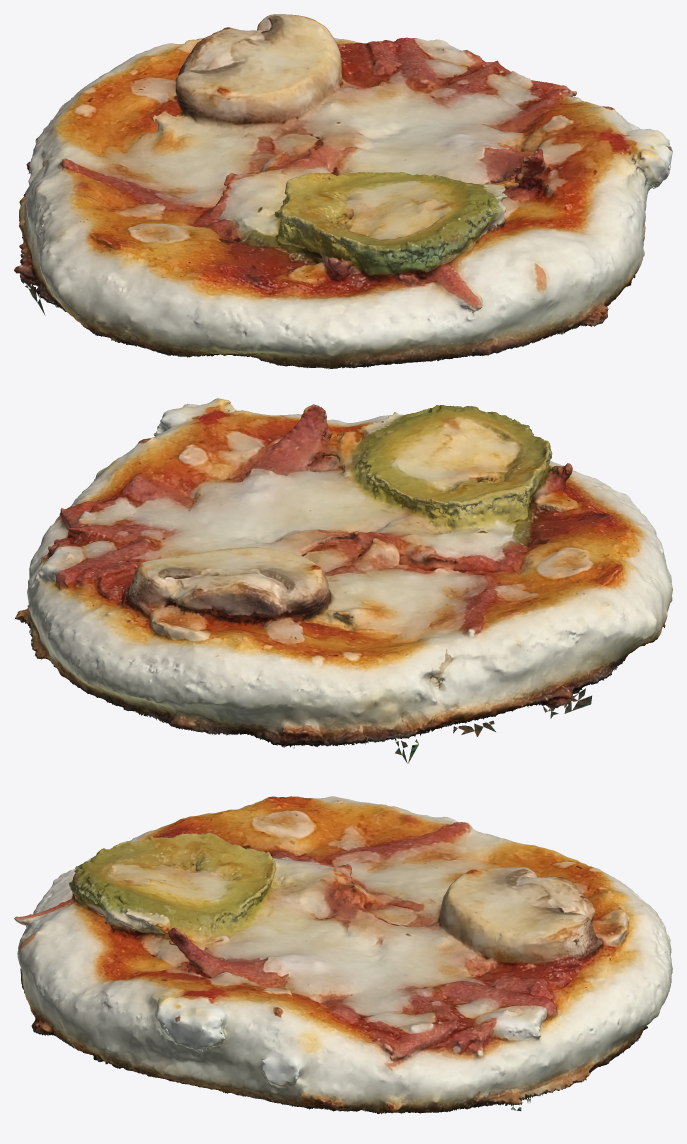
File: metashape_pizza_m.glb
3 views of the same model, one above another, from view 1: azimuth 30°, elevation 25°; view 2: azimuth 150°, elevation 25°; view 3: azimuth 270°, elevation 25° (orthographic). The views are drawn at different scales.
Visible parts, largest first — view 1: Scan; view 2: Scan; view 3: Scan.
Part boxes in pixels (box(x1,y1,x2,y2)): Scan: box(14, 14, 672, 369); Scan: box(15, 398, 672, 763); Scan: box(14, 796, 672, 1113).
Bounding box in the file's own units: 0.2937 × 0.0715 × 0.3.
Materials: 2 (1 with a texture image).
